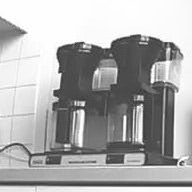empty coffee: (48, 99, 102, 153)
not empty coffee: (106, 95, 155, 150)
